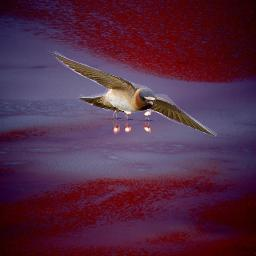Swallow: (46, 48, 218, 137)
